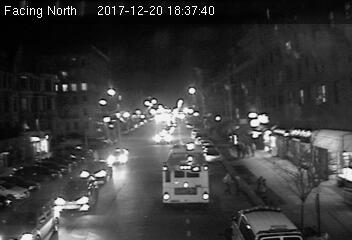bus: (162, 143, 212, 205)
car: (55, 178, 97, 212), (80, 160, 114, 182), (108, 148, 130, 166), (152, 132, 172, 145), (204, 148, 220, 162)
police: (226, 205, 308, 240)
